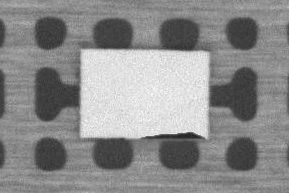DIE_BROKEN: (137, 130, 207, 141)
